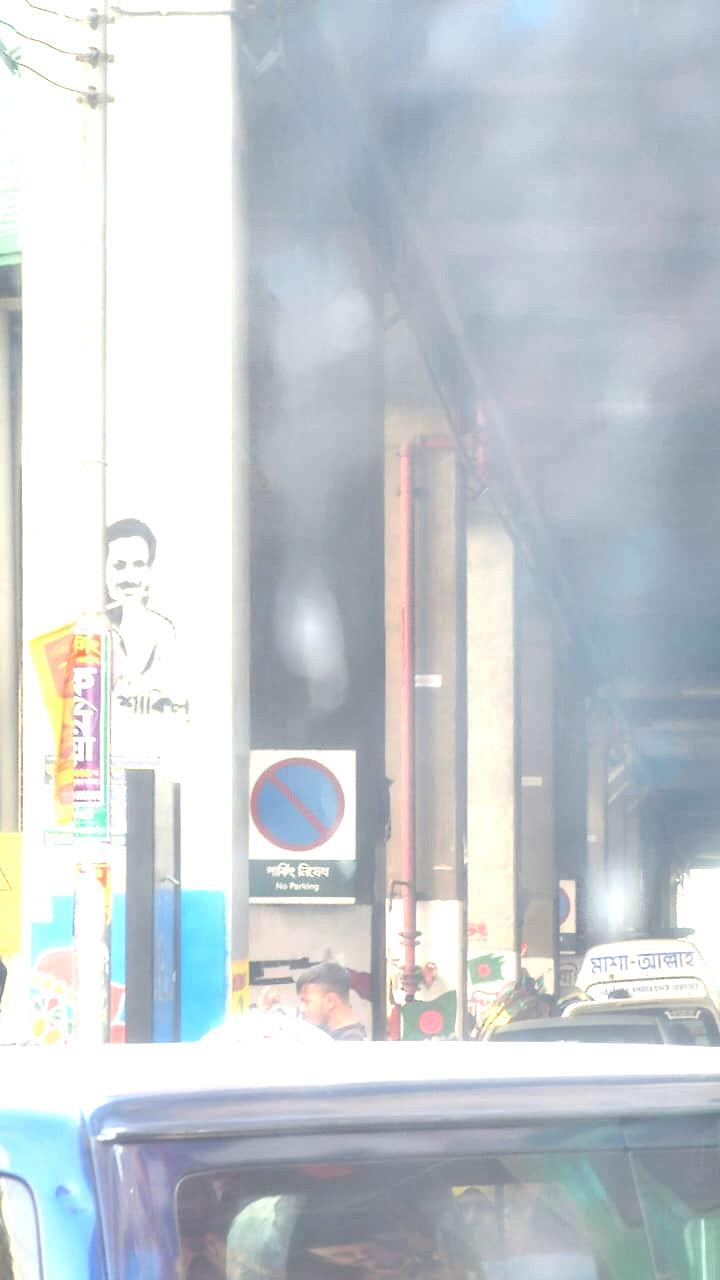No Parking: (248, 749, 367, 907)
